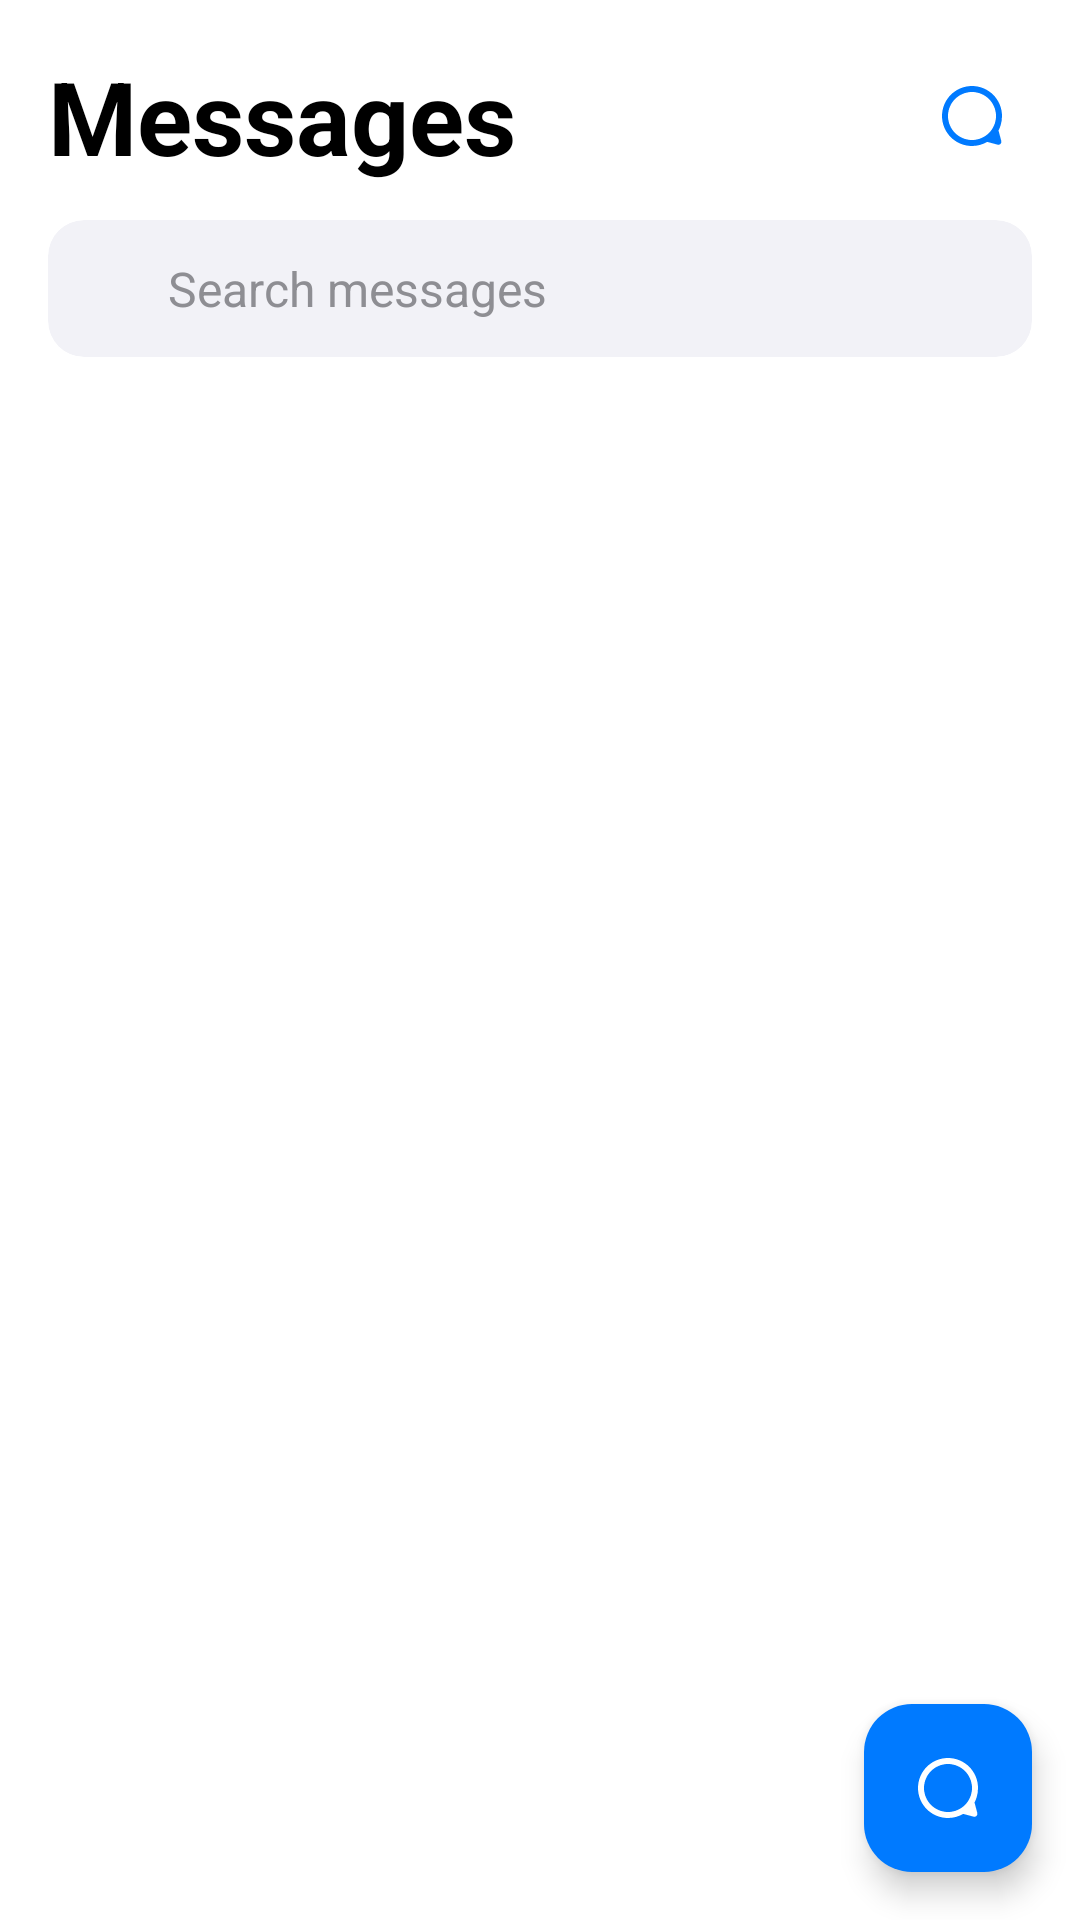

Named icons in this screenshot (1080 × 1920) and their centers, point (x, y):
New message: point (972, 116), point (948, 1788)
